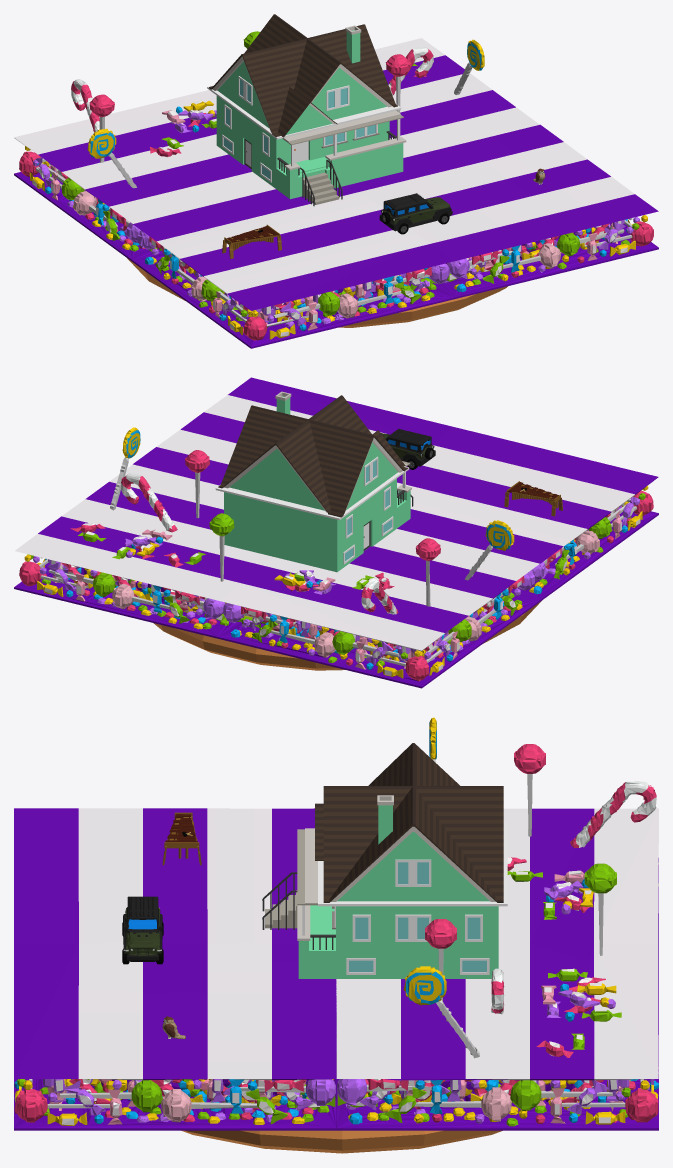
3 renders of one model, top to bottom at view 1: azimuth 30°, elevation 25°; view 2: azimuth 150°, elevation 25°; view 3: azimuth 270°, elevation 25°, orthographic. The views are drawn at different scales.
Parts seen in each view (by area): view 1: TERRAIN_CANDY, Cube.352, VEHICLES_JEEP, UNDERGROUND_PIZZA, OBJRANDOM_MARIMBA; view 2: TERRAIN_CANDY, Cube.352, UNDERGROUND_PIZZA, VEHICLES_JEEP, OBJRANDOM_MARIMBA; view 3: TERRAIN_CANDY, Cube.352, UNDERGROUND_PIZZA, VEHICLES_JEEP, OBJRANDOM_MARIMBA.
Part boxes in pixels (x1,y1,x2,y2): TERRAIN_CANDY: (14,31,658,348); Cube.352: (207,14,406,206); VEHICLES_JEEP: (379,193,452,234); UNDERGROUND_PIZZA: (127,258,507,327); OBJRANDOM_MARIMBA: (222,224,281,258); TERRAIN_CANDY: (14,377,658,688); Cube.352: (215,391,413,572); UNDERGROUND_PIZZA: (153,601,541,670); VEHICLES_JEEP: (381,428,435,469); OBJRANDOM_MARIMBA: (504,481,562,516); TERRAIN_CANDY: (14,717,658,1130); Cube.352: (262,743,507,978); UNDERGROUND_PIZZA: (181,1130,502,1153); VEHICLES_JEEP: (122,896,163,964); OBJRANDOM_MARIMBA: (162,812,201,865).
Bounding box in the file's own units: 4059 × 1796 × 4000.
Materials: 35 (2 with a texture image).
